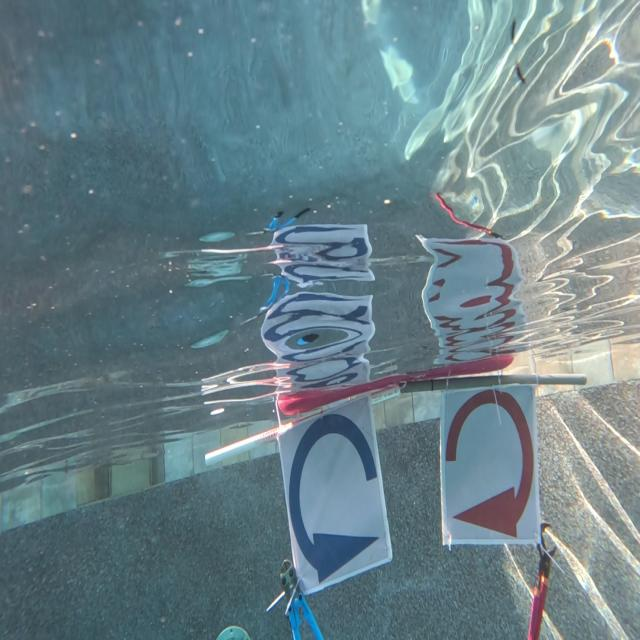blue_side: (282, 409, 383, 585)
red_side: (444, 393, 529, 535)
